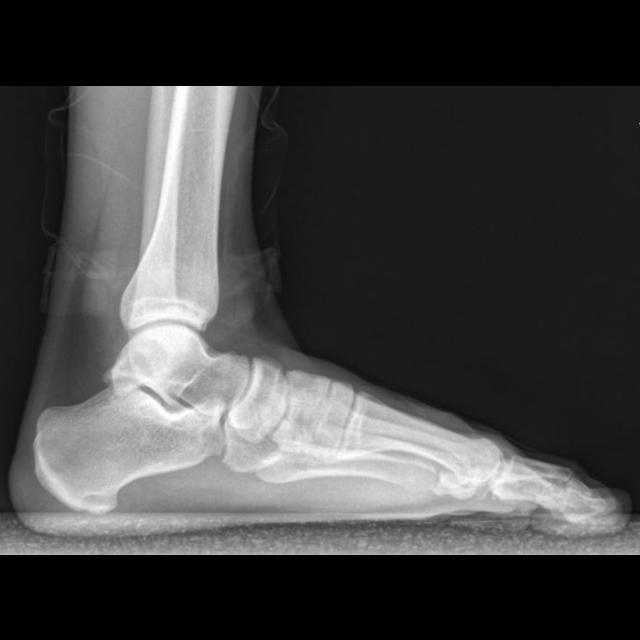a: (34, 382, 225, 514)
b: (230, 360, 284, 440)
c: (338, 390, 496, 481)
